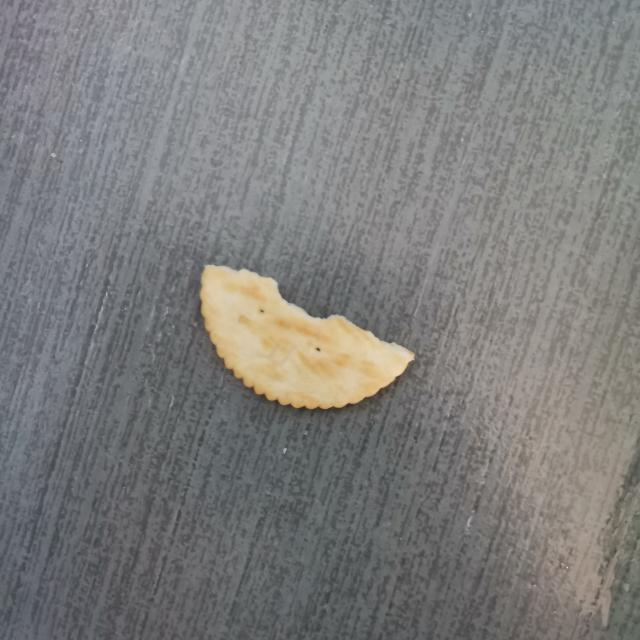Broken: (198, 262, 416, 410)
